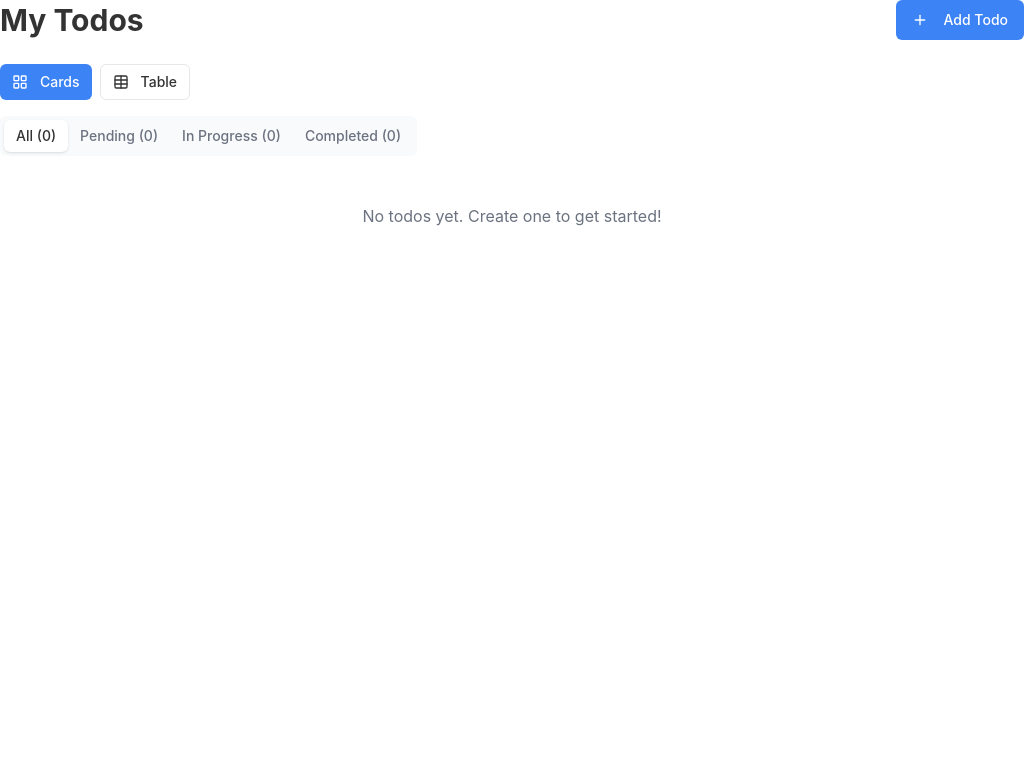
Test: TodoList › error messages display for storage/quota errors
Open dialog
Click the button "Add Todo". click: (960, 20)
box: [896,0,1023,40]
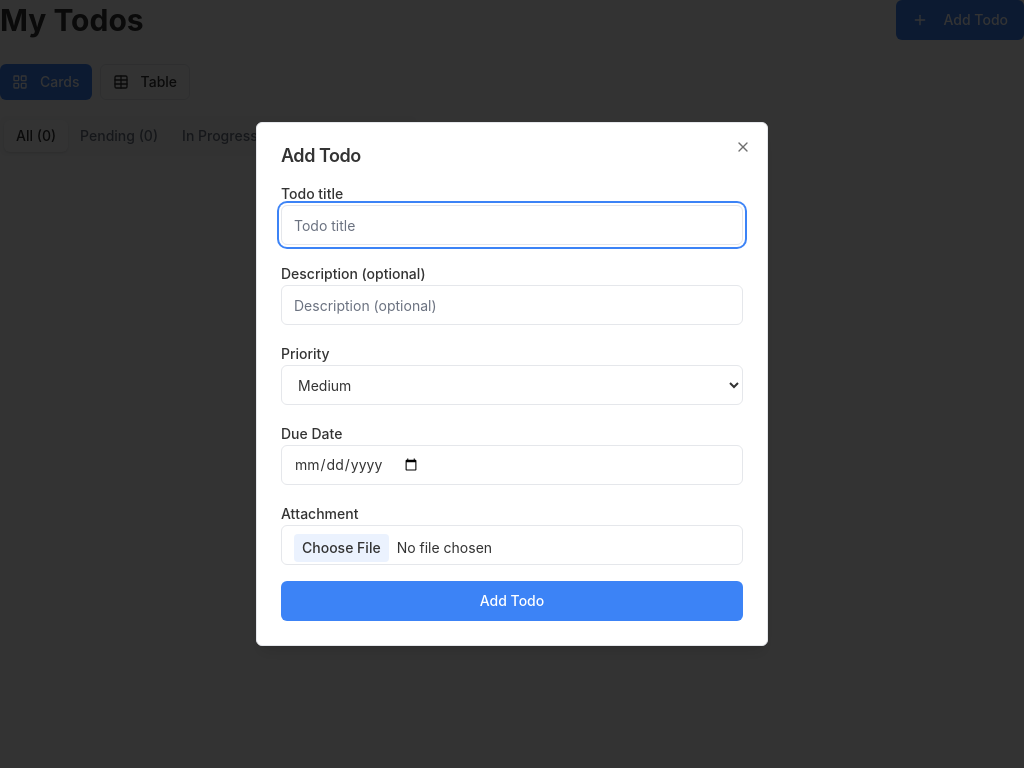
Result: the dialog is shown at [256,122,768,646]
Fill in title
Type "New Todo" into the field labelled "Todo title". click: (512, 225)
box: [281,205,743,245]
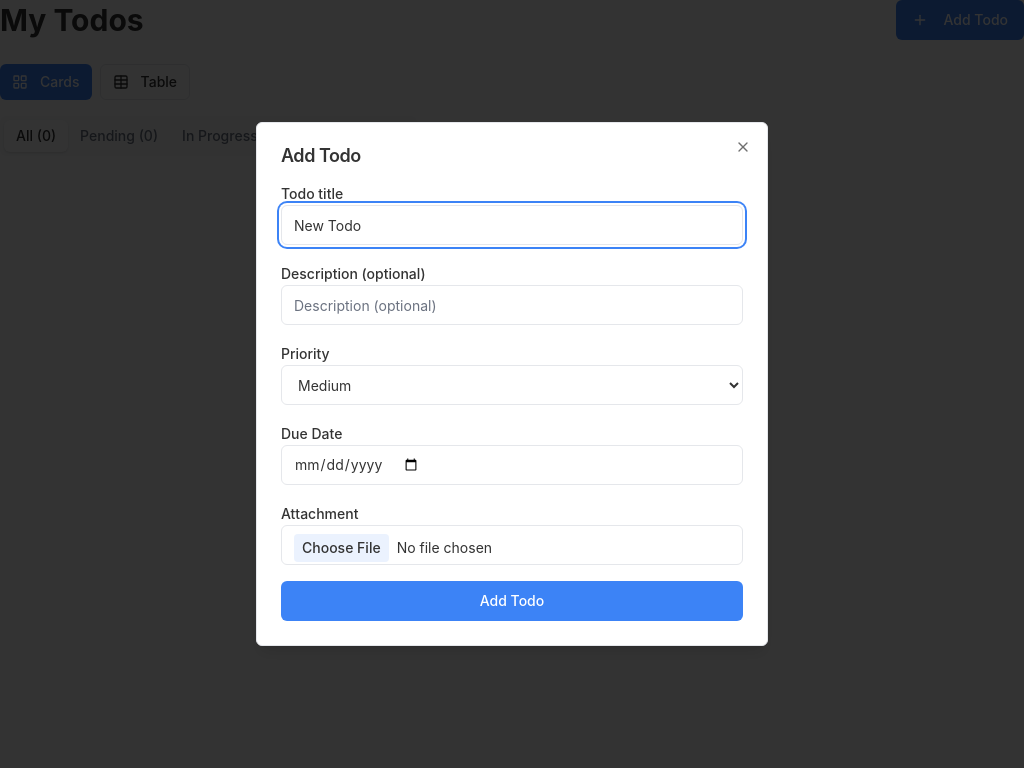
Click the button "Add Todo". click: (512, 601)
box: [281,581,743,621]
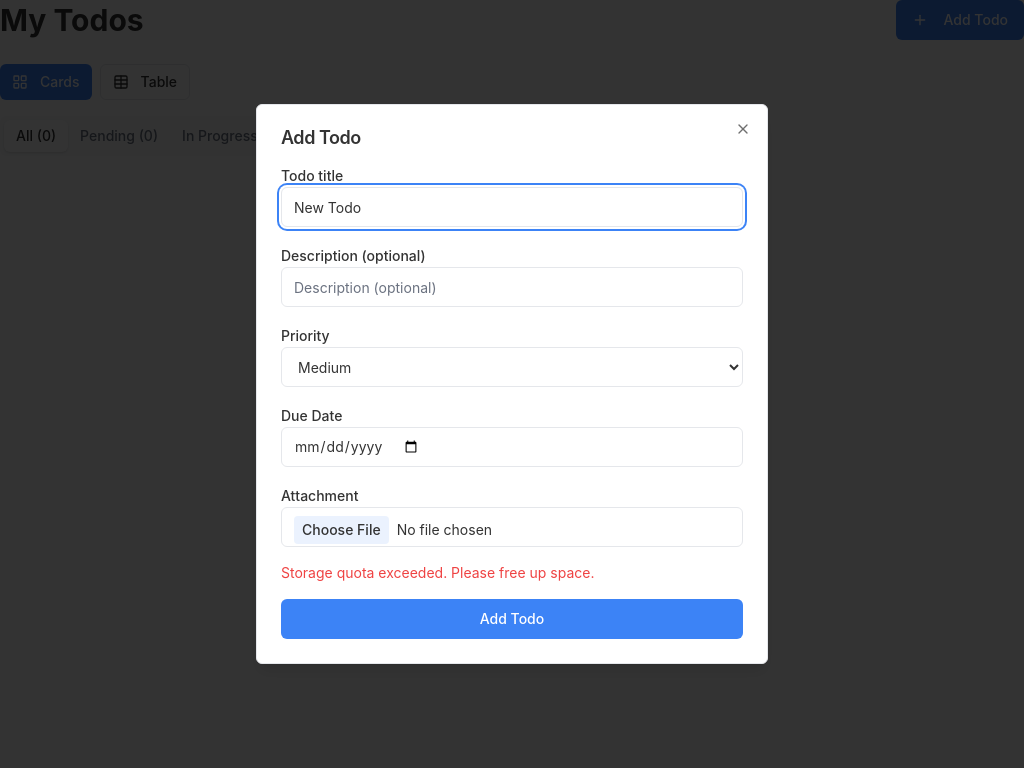
Result: the text "Storage quota exceeded. Please free up space." is shown at [281,564,594,581]
